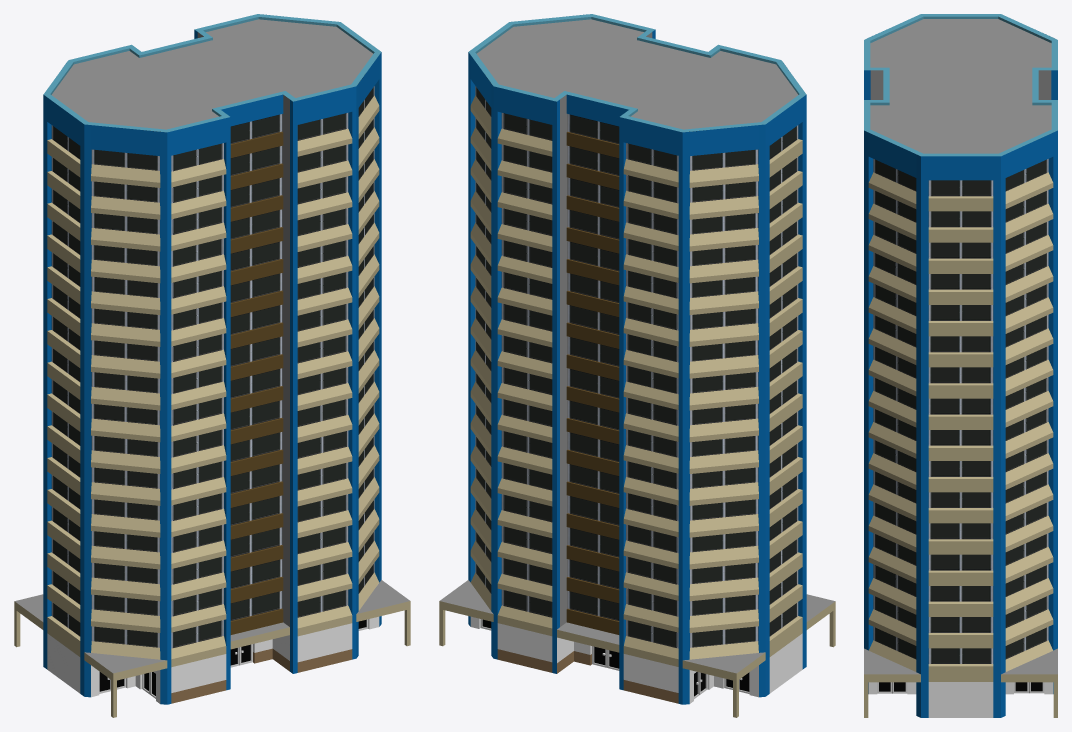
3 views of the same model, side by side, from view 1: azimuth 30°, elevation 25°; view 2: azimuth 150°, elevation 25°; view 3: azimuth 270°, elevation 25° (orthographic).
Visible parts, largest first — view 1: BC-05; view 2: BC-05; view 3: BC-05.
Part boxes in pixels (x1,y1,x2,y2): BC-05: (14,14,410,717); BC-05: (439,14,835,717); BC-05: (864,14,1057,717).
Size of what is drawn, in the model's own units: 29.37 by 54.04 by 16.9.
